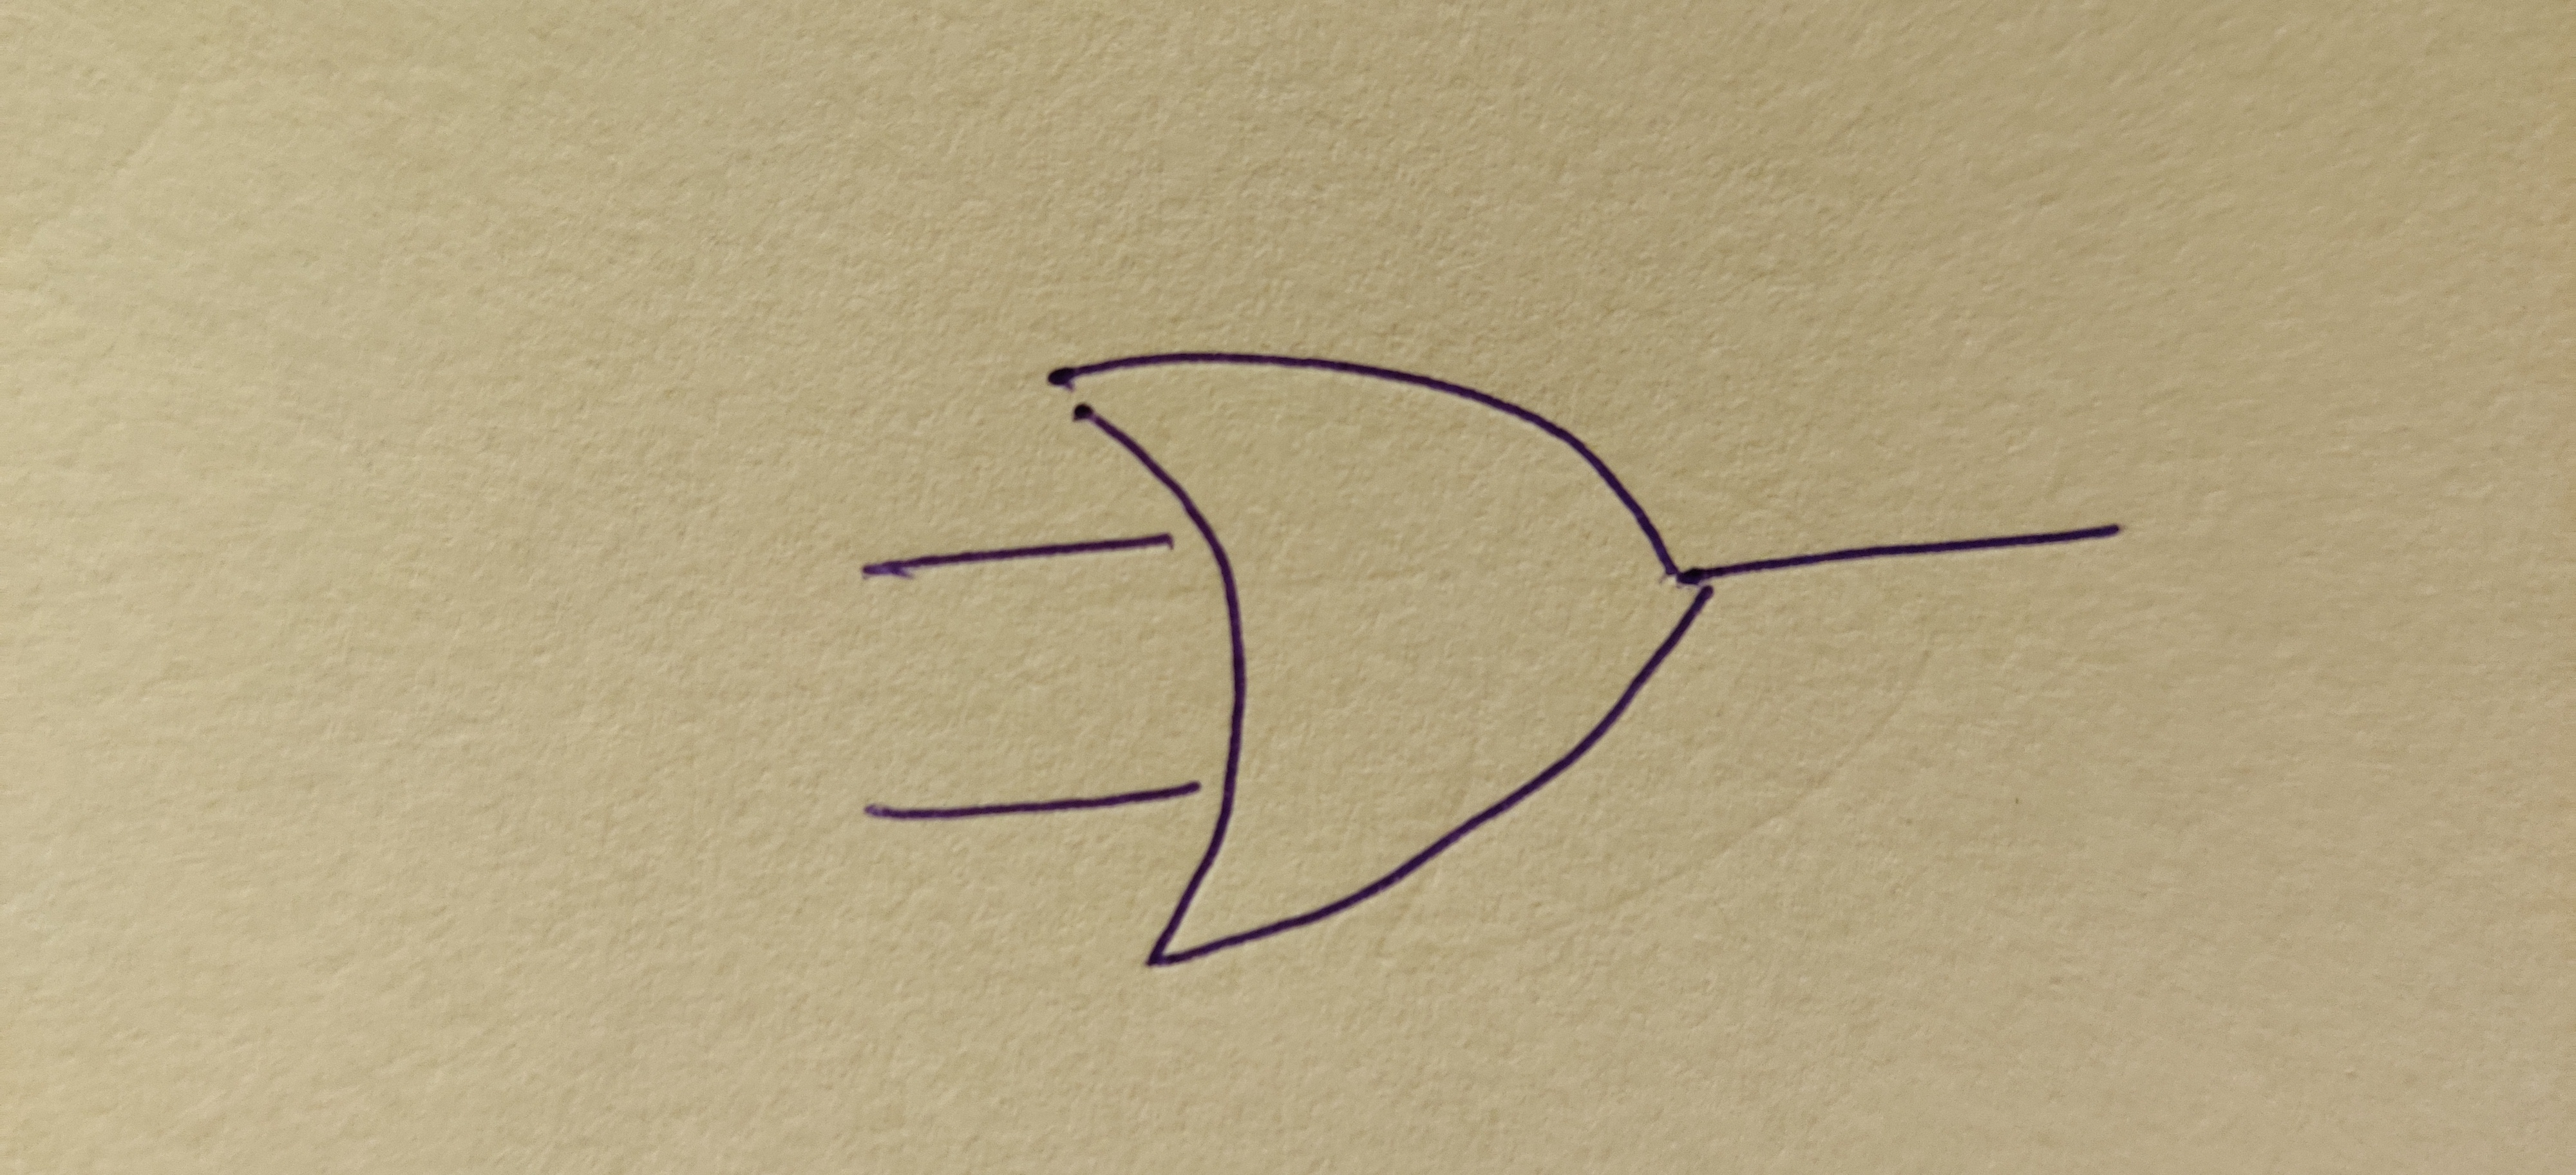or: (1065, 357, 1715, 963)
